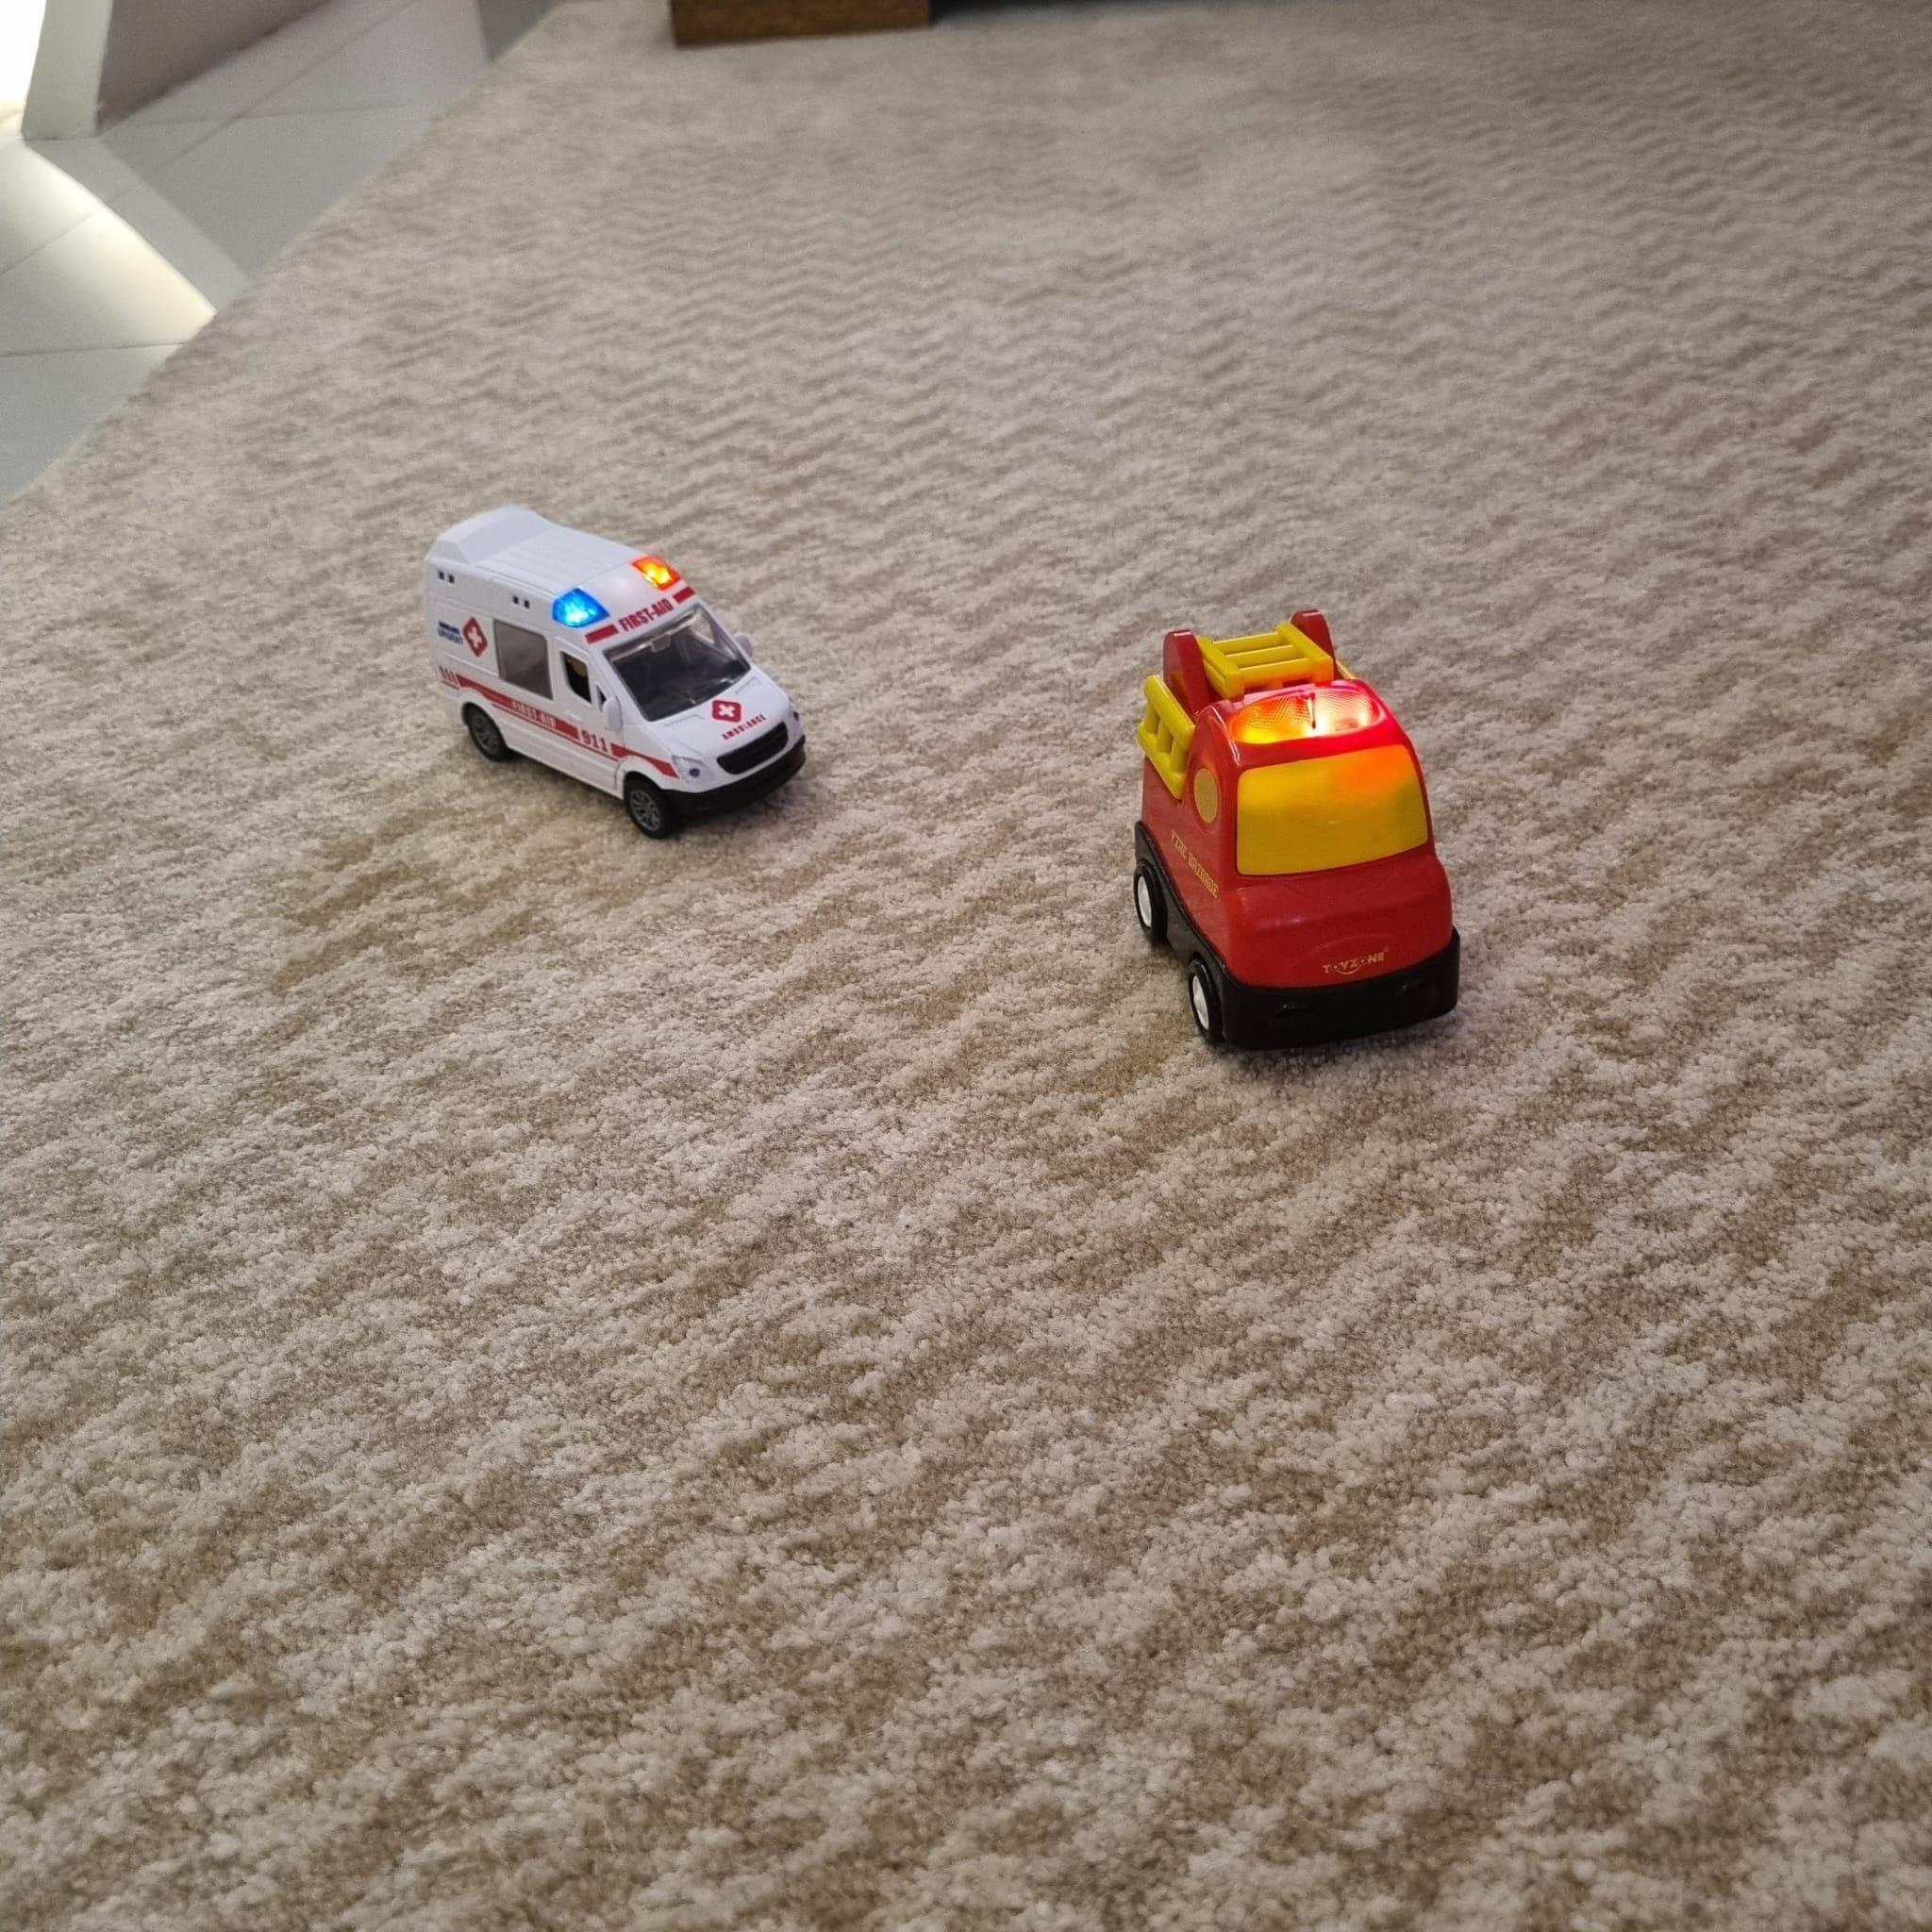ambulance_on: (425, 501, 800, 844)
firetruck_on: (1123, 605, 1467, 1062)
